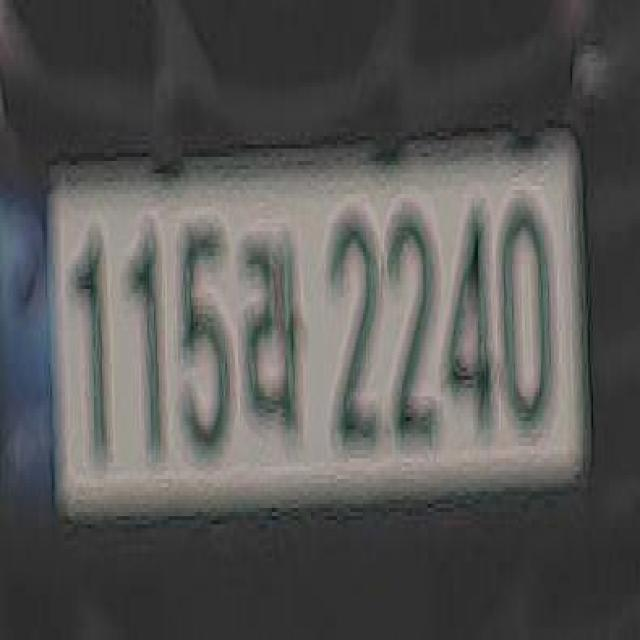illegal_plate: (18, 123, 602, 542)
